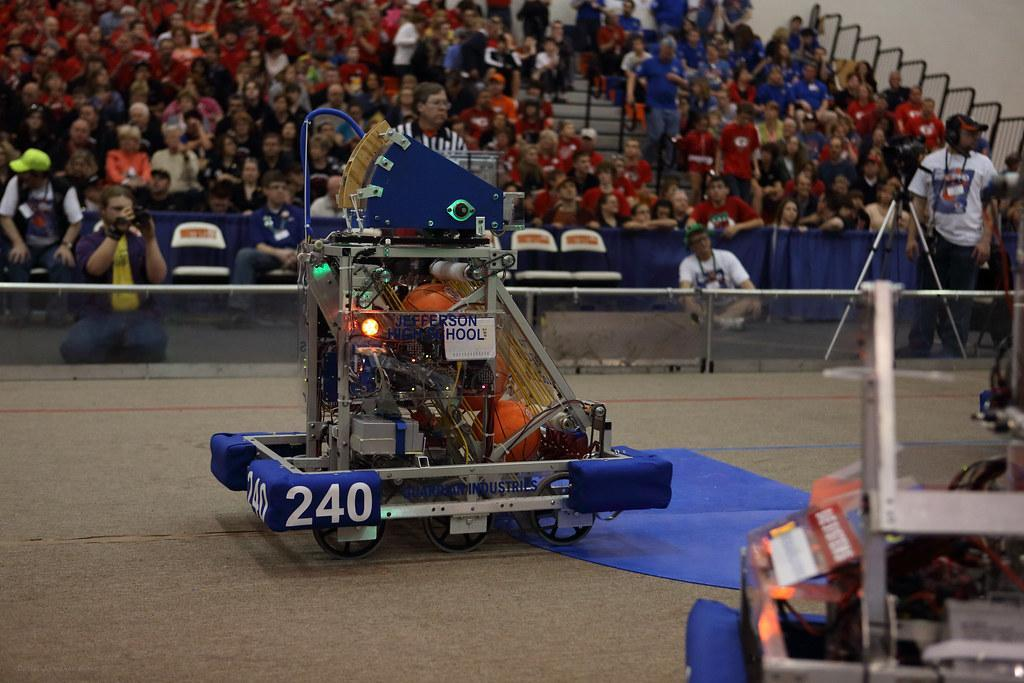robot: (197, 99, 680, 558), (684, 172, 1024, 683)
